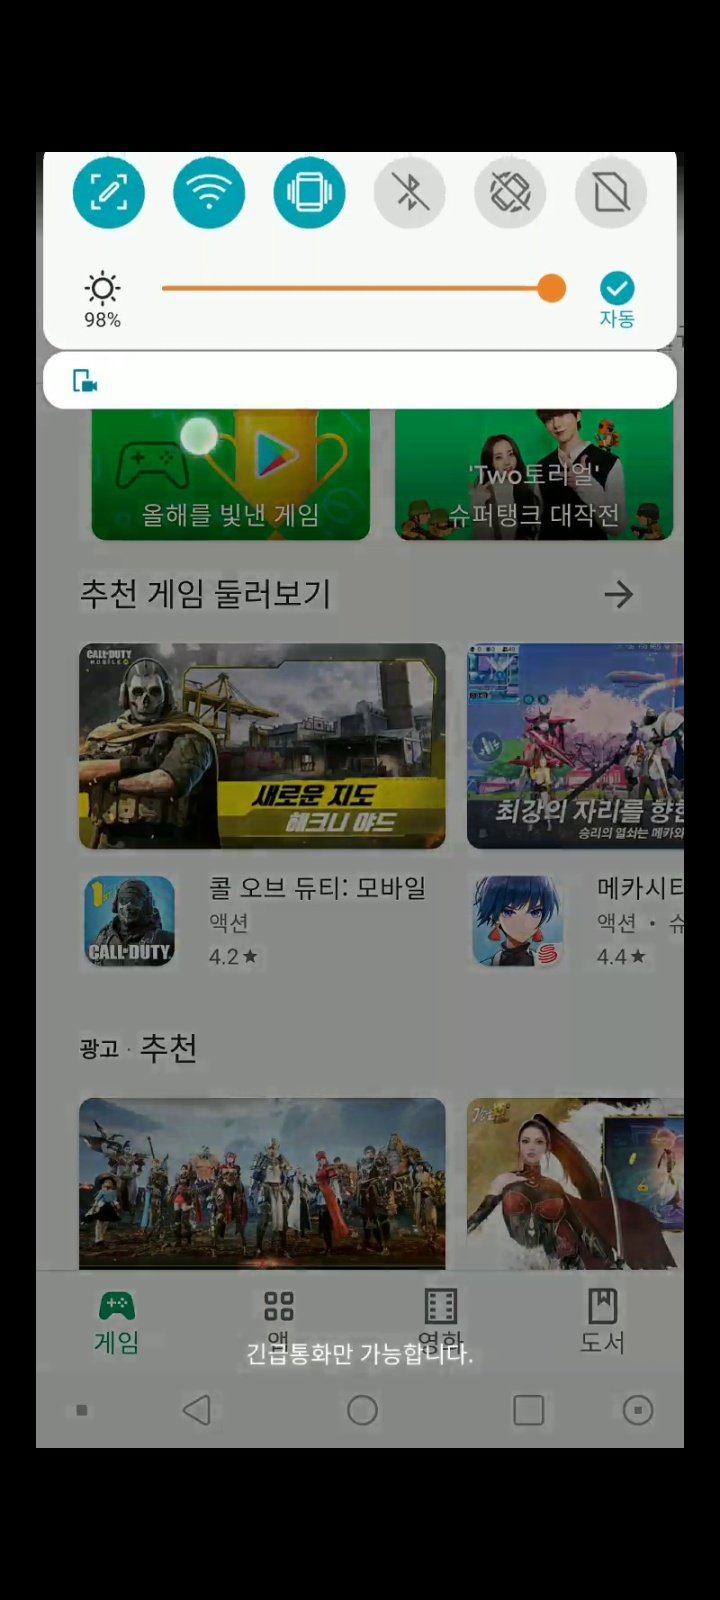Cursor: (178, 413, 223, 458)
